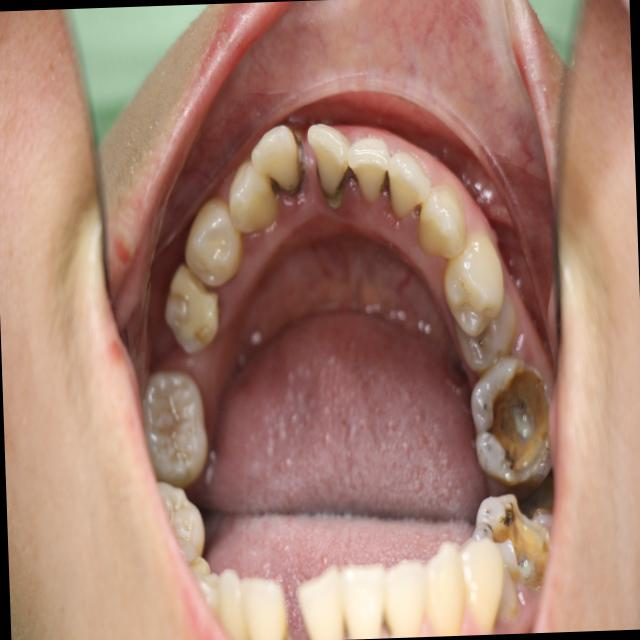tooth: (466, 348, 559, 495), (131, 355, 218, 494), (436, 228, 511, 342), (174, 190, 249, 293), (449, 292, 524, 378), (161, 259, 223, 359), (303, 117, 356, 215), (221, 156, 280, 238), (413, 180, 468, 264), (249, 123, 306, 199), (384, 146, 434, 223), (345, 130, 393, 210)
